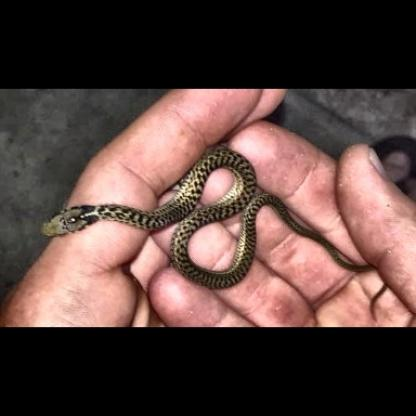Snake: (31, 140, 334, 296)
